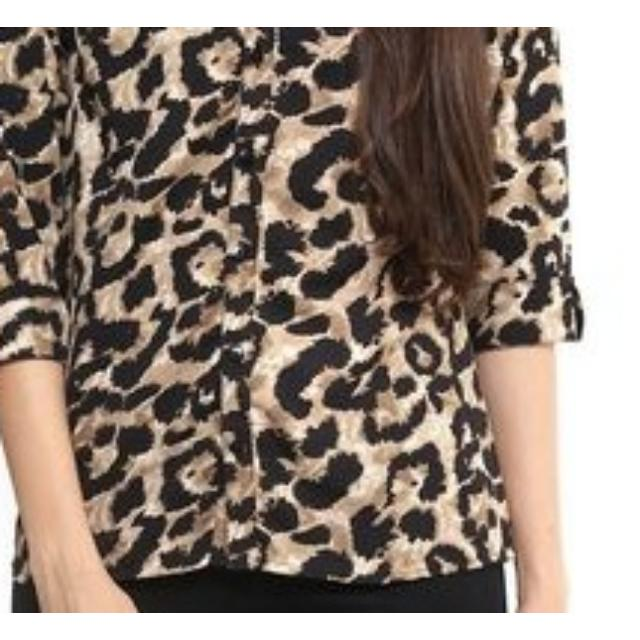polyester: (1, 27, 340, 565)
